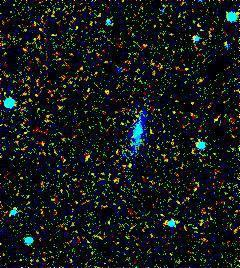star: (90, 77, 120, 107)
